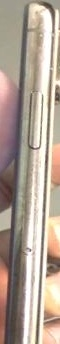scratch: (18, 183, 45, 209), (29, 11, 53, 40), (24, 28, 56, 46), (40, 59, 60, 76)
